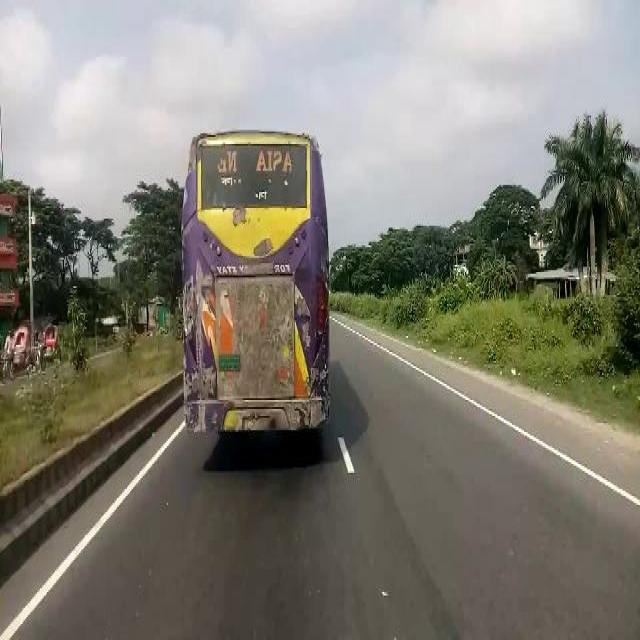Bus: (184, 118, 331, 457)
